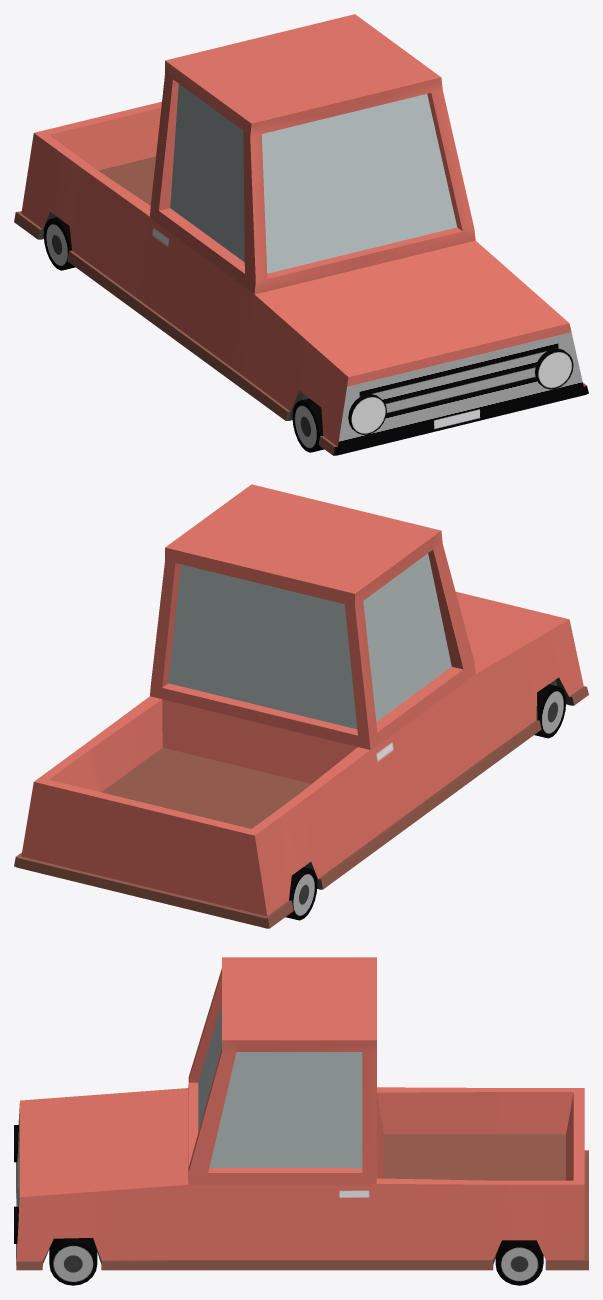
File: Car.glb
3 views of the same model, one above another, from view 1: azimuth 30°, elevation 25°; view 2: azimuth 150°, elevation 25°; view 3: azimuth 270°, elevation 25° (orthographic). The views are drawn at different scales.
Parts seen in each view (by area): view 1: Car; view 2: Car; view 3: Car.
Boxes of the visible parts, <box> form: Car: <box>14,14,588,455</box>; Car: <box>14,484,588,928</box>; Car: <box>14,957,588,1285</box>.
Bounding box in the file's own units: 2.28 × 2.21 × 4.95.
Materials: 1 (1 with a texture image).
